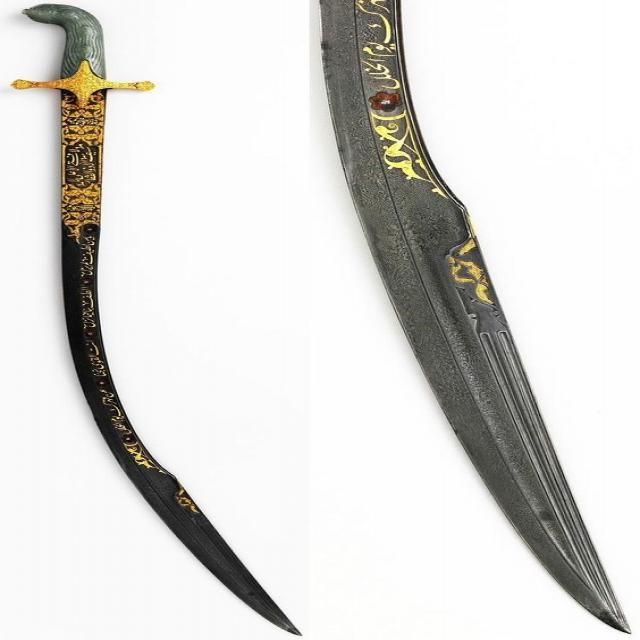long sword: (297, 19, 633, 640), (11, 1, 318, 639)
